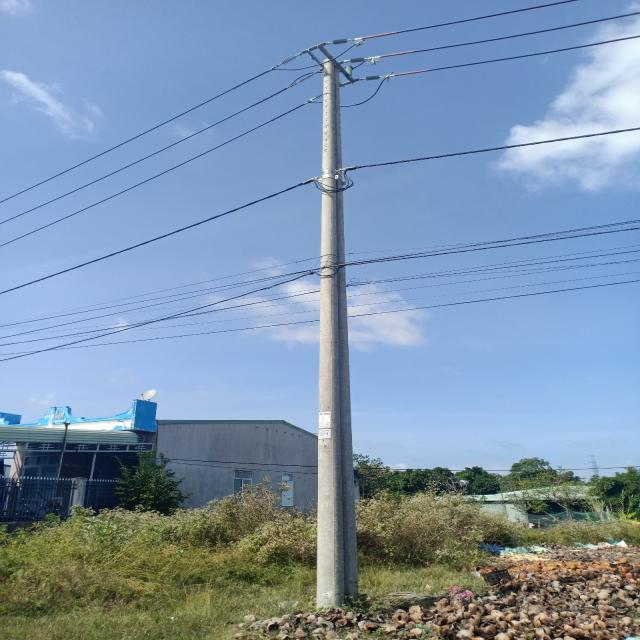light_pole: (311, 54, 364, 610)
